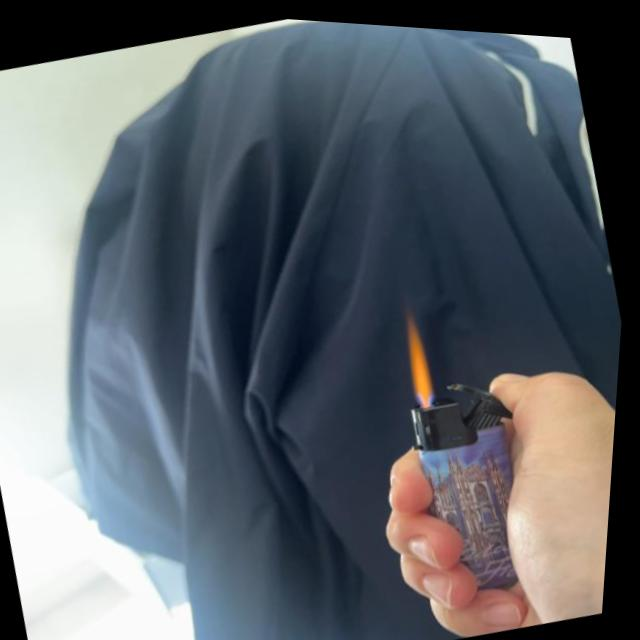Fire: (400, 310, 447, 396)
